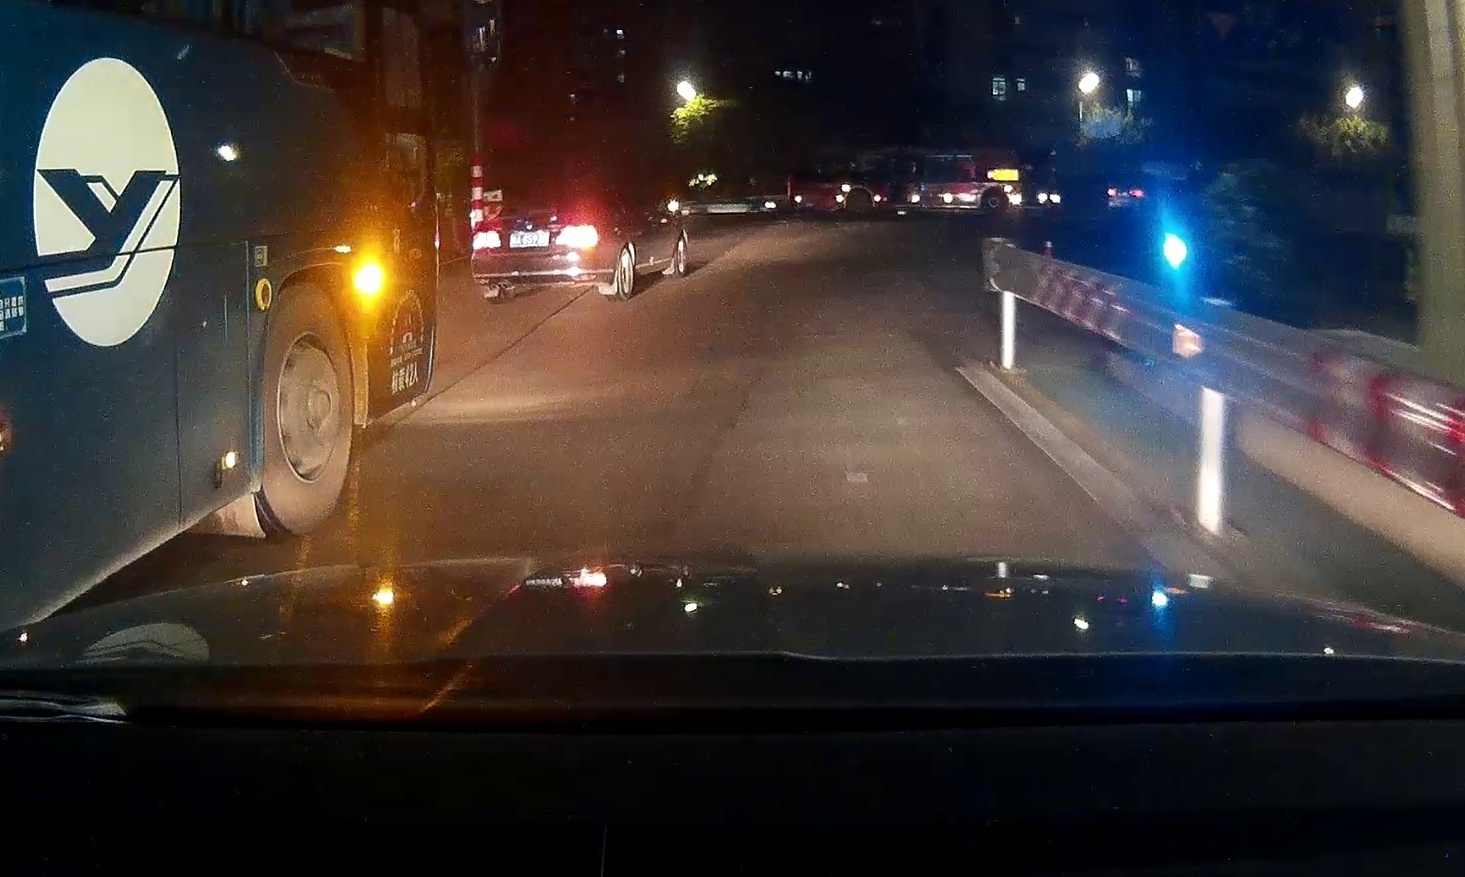L_light: (471, 229, 501, 248)
R_light: (558, 224, 599, 248)
T_light: (537, 193, 551, 197)
night-right: (470, 184, 611, 303)
